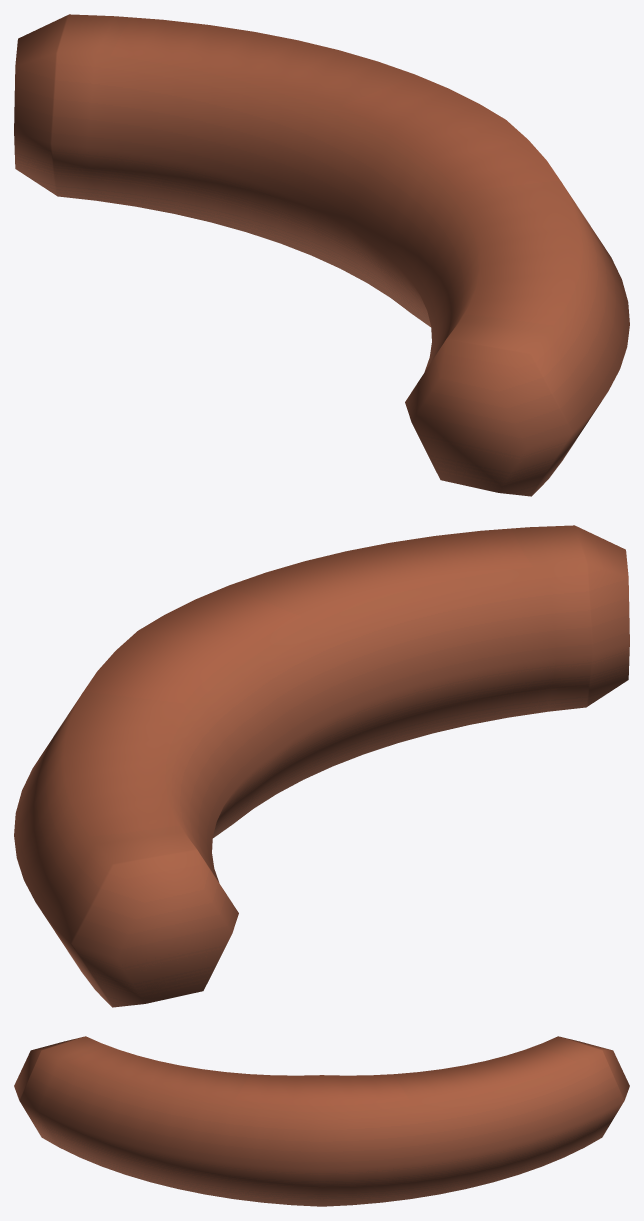
Rendered from meat-sausage.glb.
3 renders of one model, top to bottom at view 1: azimuth 30°, elevation 25°; view 2: azimuth 150°, elevation 25°; view 3: azimuth 270°, elevation 25°, orthographic. The views are drawn at different scales.
Parts seen in each view (by area): view 1: meat-sausage; view 2: meat-sausage; view 3: meat-sausage.
Part boxes in pixels (left/top/right/bottom): meat-sausage: left=14, top=14, right=629, bottom=496; meat-sausage: left=14, top=525, right=629, bottom=1007; meat-sausage: left=14, top=1036, right=629, bottom=1206.
Size of the model in its own units: 0.1515 by 0.0727 by 0.3916.
1 material, 1 textured.
